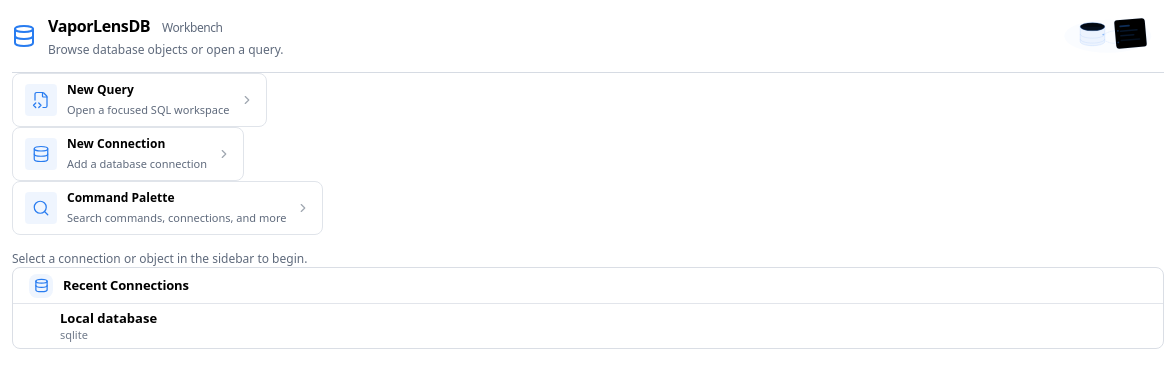
shows resume actions only without an explicit connection, and selecting one opens a summary without connecting
Expected: the heading "Recent Connections" is shown, [63,276,189,295]
What coordinates should you click on to do the following:
click the button "Local database sqlite"
I would click on:
 (109, 318)
Its box is [13,304,1163,348].
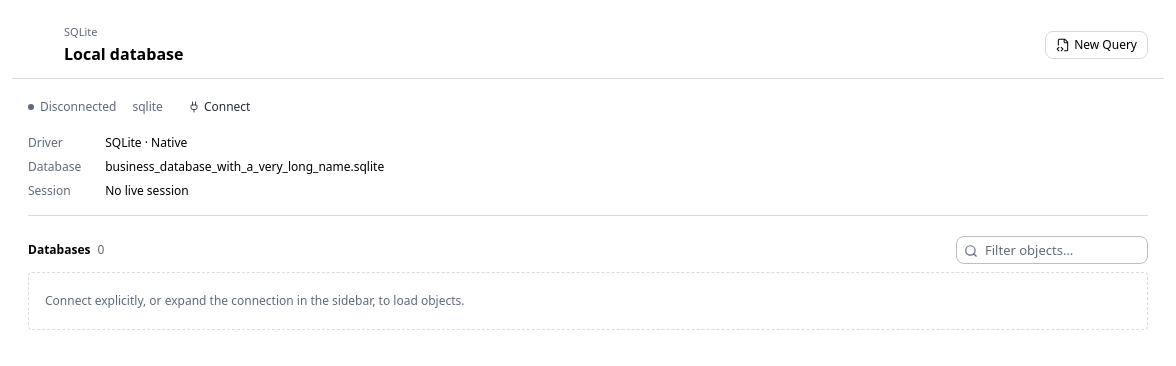
Expected: the heading "Recent Connections" is gone
Expected: the heading "Local database" is shown, [64,43,184,65]
Expected: the text "No live session" is shown, [105,182,189,199]
